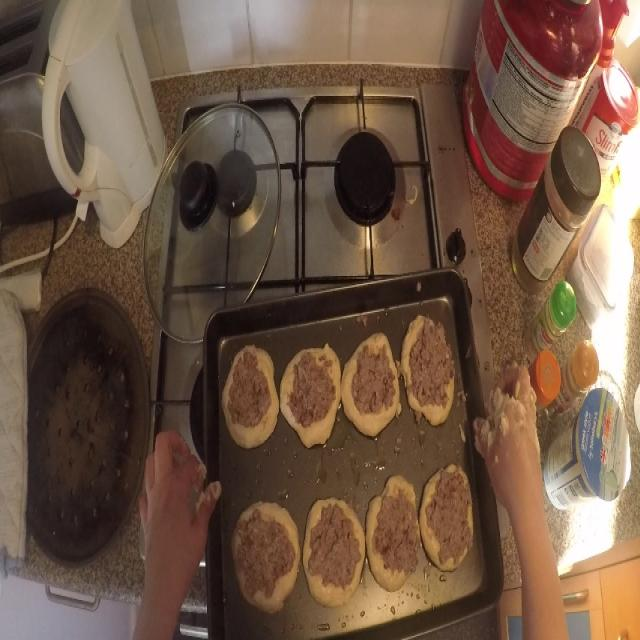hob: (294, 95, 446, 272)
kettle: (42, 3, 162, 252)
left hand: (133, 430, 217, 640)
lid: (146, 103, 276, 332)
right hand: (474, 362, 544, 586)
